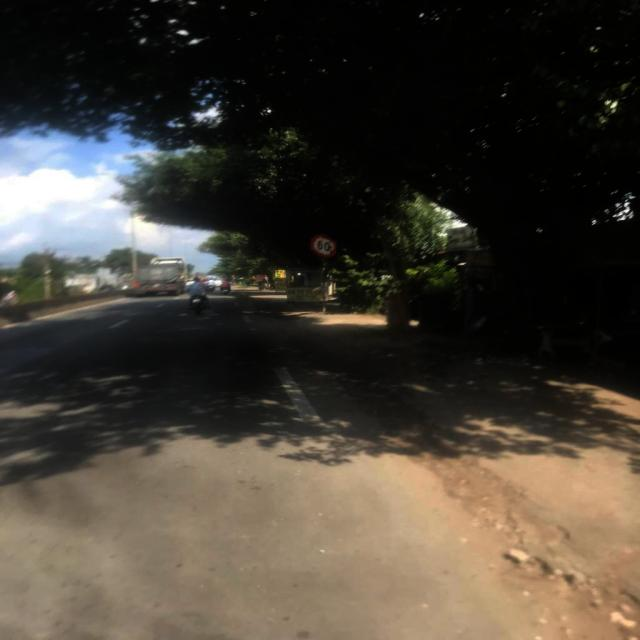toc_do_toi_da_60: (308, 234, 336, 258)
